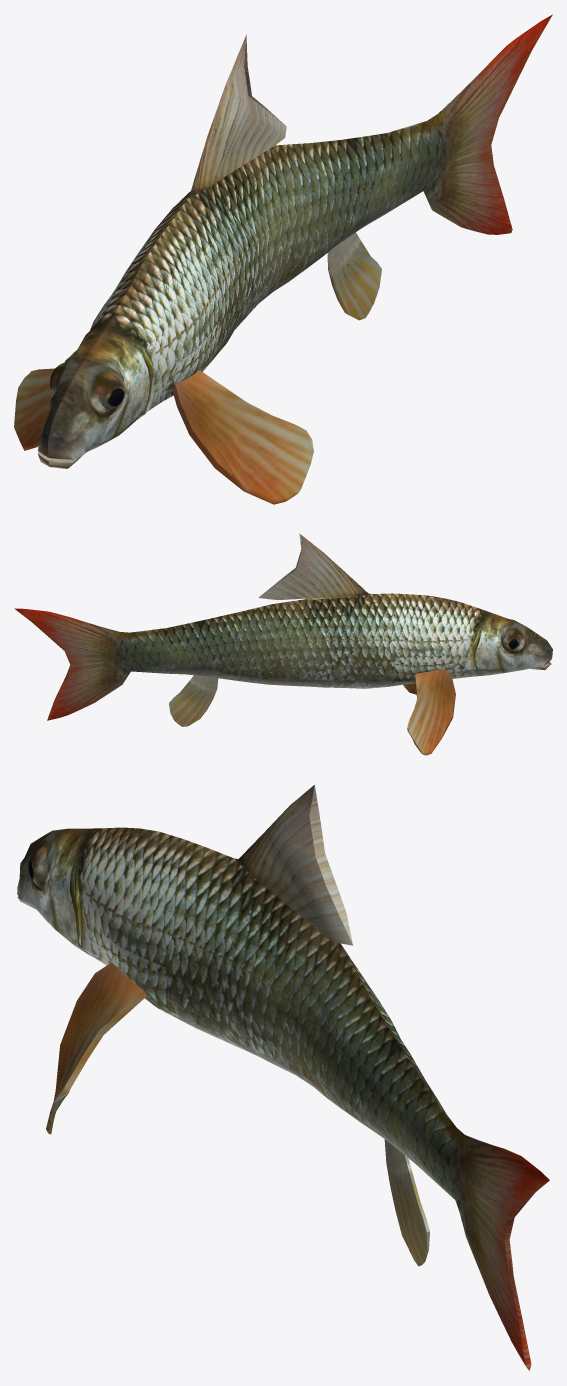
File: shorthead_redhorse.glb
The picture shows the model from 3 angles, top to bottom: view 1: azimuth 30°, elevation 25°; view 2: azimuth 150°, elevation 25°; view 3: azimuth 270°, elevation 25°; orthographic projection. The views are drawn at different scales.
Parts seen in each view (by area): view 1: polySurface2, polySurface1, polySurface4; view 2: polySurface1, polySurface2, polySurface3; view 3: polySurface2, polySurface1.
Part boxes in pixels (x1,y1,x2,y2): polySurface2: (47, 14, 552, 504); polySurface1: (14, 23, 547, 466); polySurface4: (98, 373, 125, 409); polySurface1: (14, 533, 552, 755); polySurface2: (20, 547, 552, 717); polySurface3: (500, 631, 520, 650); polySurface2: (17, 785, 549, 1370); polySurface1: (62, 786, 549, 1370).
Size of the model in its own units: 7.68 by 3.54 by 4.35.
1 material, 1 textured.
